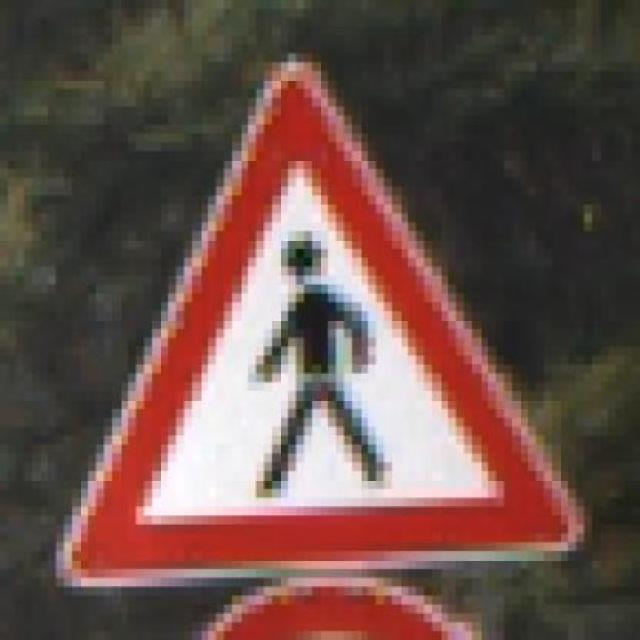Pedestrian Crossing: (48, 36, 592, 596)
